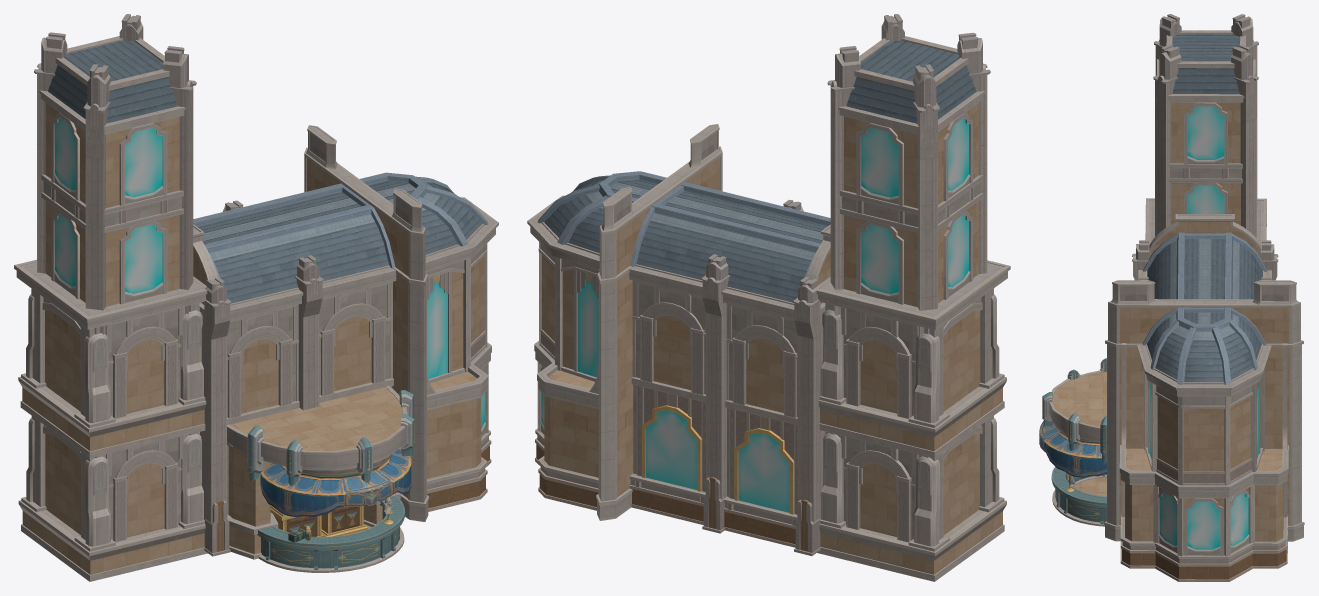
Rendered from Homeworld_Exterior_Fd_Build_ZhuchengJz_09_Lod0.fbx.
The picture shows the model from 3 angles, left to right: view 1: azimuth 30°, elevation 25°; view 2: azimuth 150°, elevation 25°; view 3: azimuth 270°, elevation 25°; orthographic projection. The views are drawn at different scales.
Visible parts, largest first — view 1: Homeworld_Exterior_Fd_Build_ZhuchengJz_09_Lod0; view 2: Homeworld_Exterior_Fd_Build_ZhuchengJz_09_Lod0; view 3: Homeworld_Exterior_Fd_Build_ZhuchengJz_09_Lod0.
Part boxes in pixels (left/top/right/bottom): Homeworld_Exterior_Fd_Build_ZhuchengJz_09_Lod0: left=14, top=14, right=498, bottom=581; Homeworld_Exterior_Fd_Build_ZhuchengJz_09_Lod0: left=527, top=14, right=1010, bottom=581; Homeworld_Exterior_Fd_Build_ZhuchengJz_09_Lod0: left=1039, top=14, right=1304, bottom=581.
Size of what is drawn, in the model's own units: 19.42 by 21.51 by 12.67.
